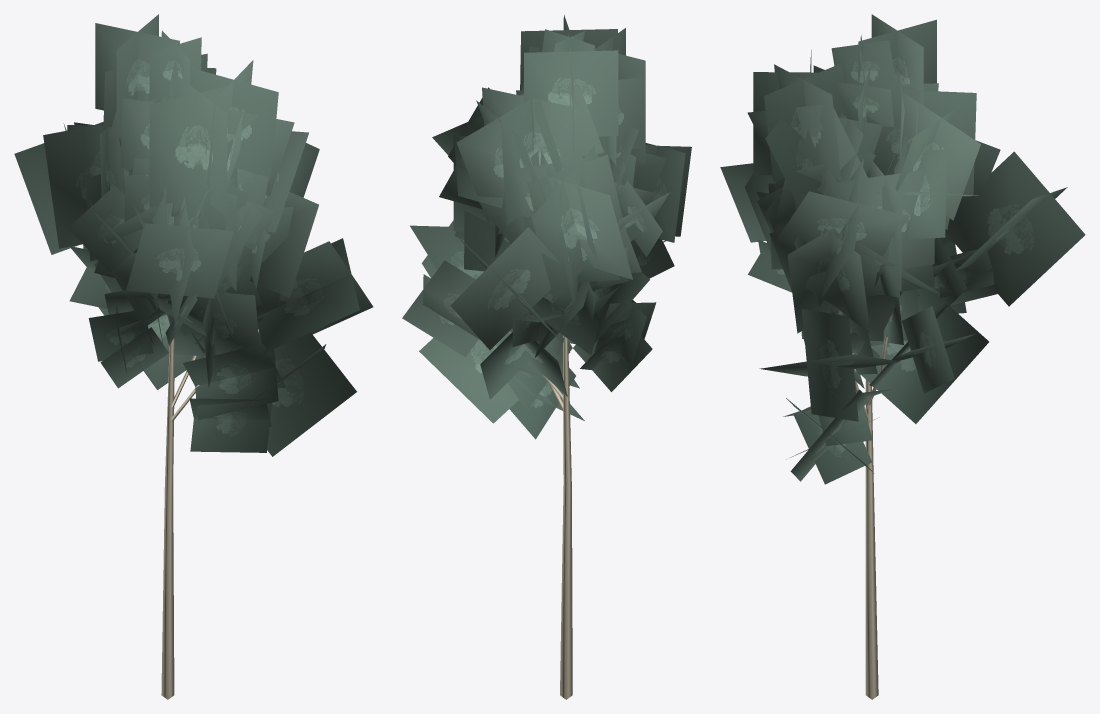
Rendered from eucalipto-muybajo.glb.
3 views of the same model, side by side, from view 1: azimuth 30°, elevation 25°; view 2: azimuth 150°, elevation 25°; view 3: azimuth 270°, elevation 25° (orthographic).
Parts seen in each view (by area): view 1: eucalipto; view 2: eucalipto; view 3: eucalipto.
Boxes of the visible parts, x1,y1,x2,y2 form: eucalipto: (14,14,373,699); eucalipto: (402,15,691,699); eucalipto: (720,14,1085,699).
Size of the model in its own units: 8.73 by 20.11 by 10.12.
2 materials, 1 textured.
